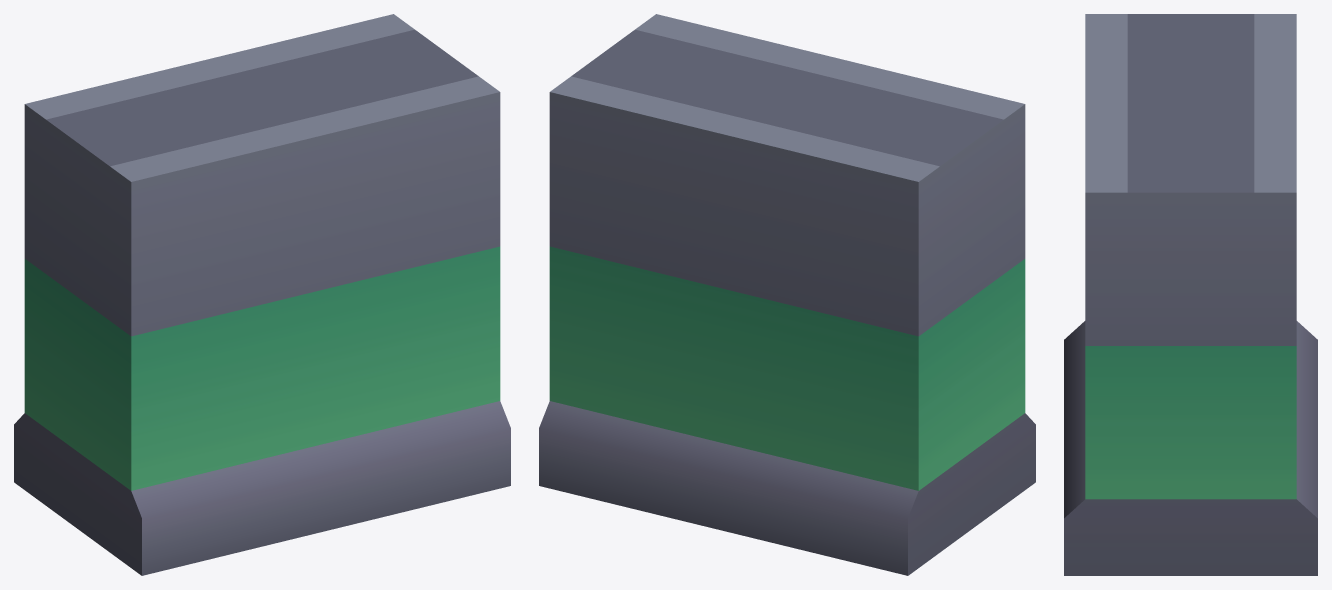
The model's file is wall.glb.
3 views of the same model, side by side, from view 1: azimuth 30°, elevation 25°; view 2: azimuth 150°, elevation 25°; view 3: azimuth 270°, elevation 25° (orthographic).
Parts seen in each view (by area): view 1: wall; view 2: wall; view 3: wall.
Part boxes in pixels (x1,y1,x2,y2): wall: (14, 14, 510, 575); wall: (539, 14, 1035, 575); wall: (1064, 14, 1317, 575).
Size of the model in its own units: 1 by 1 by 0.6001.
1 material, 1 textured.
